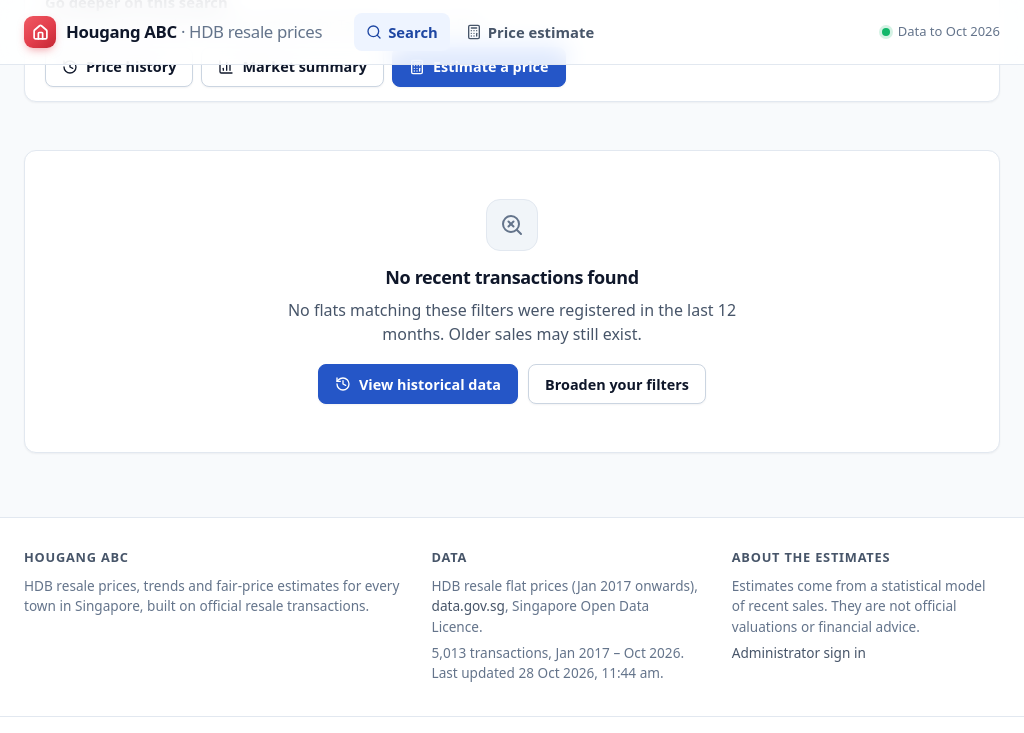
it: S2 Latest Results Page (UC-4.2) › no recent records: suggests historical data, which comes back to results (EX.1)
(page scrolled)
expect the heading "No recent transactions found" is shown: met, box [385,267,639,288]
Click the button "View historical data": (418, 384) [318,364,518,404]
(page scrolled)
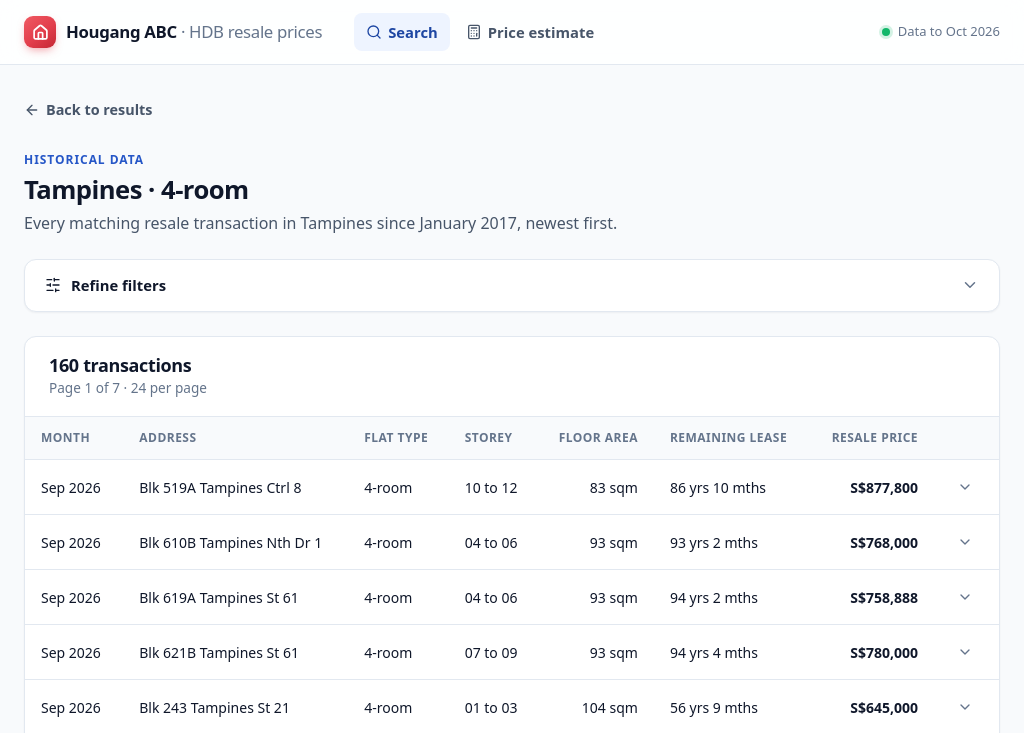
expect the text "Historical data" is shown: met, box [24,151,144,168]
expect the link "Back to results" is shown: met, box [24,100,152,119]
